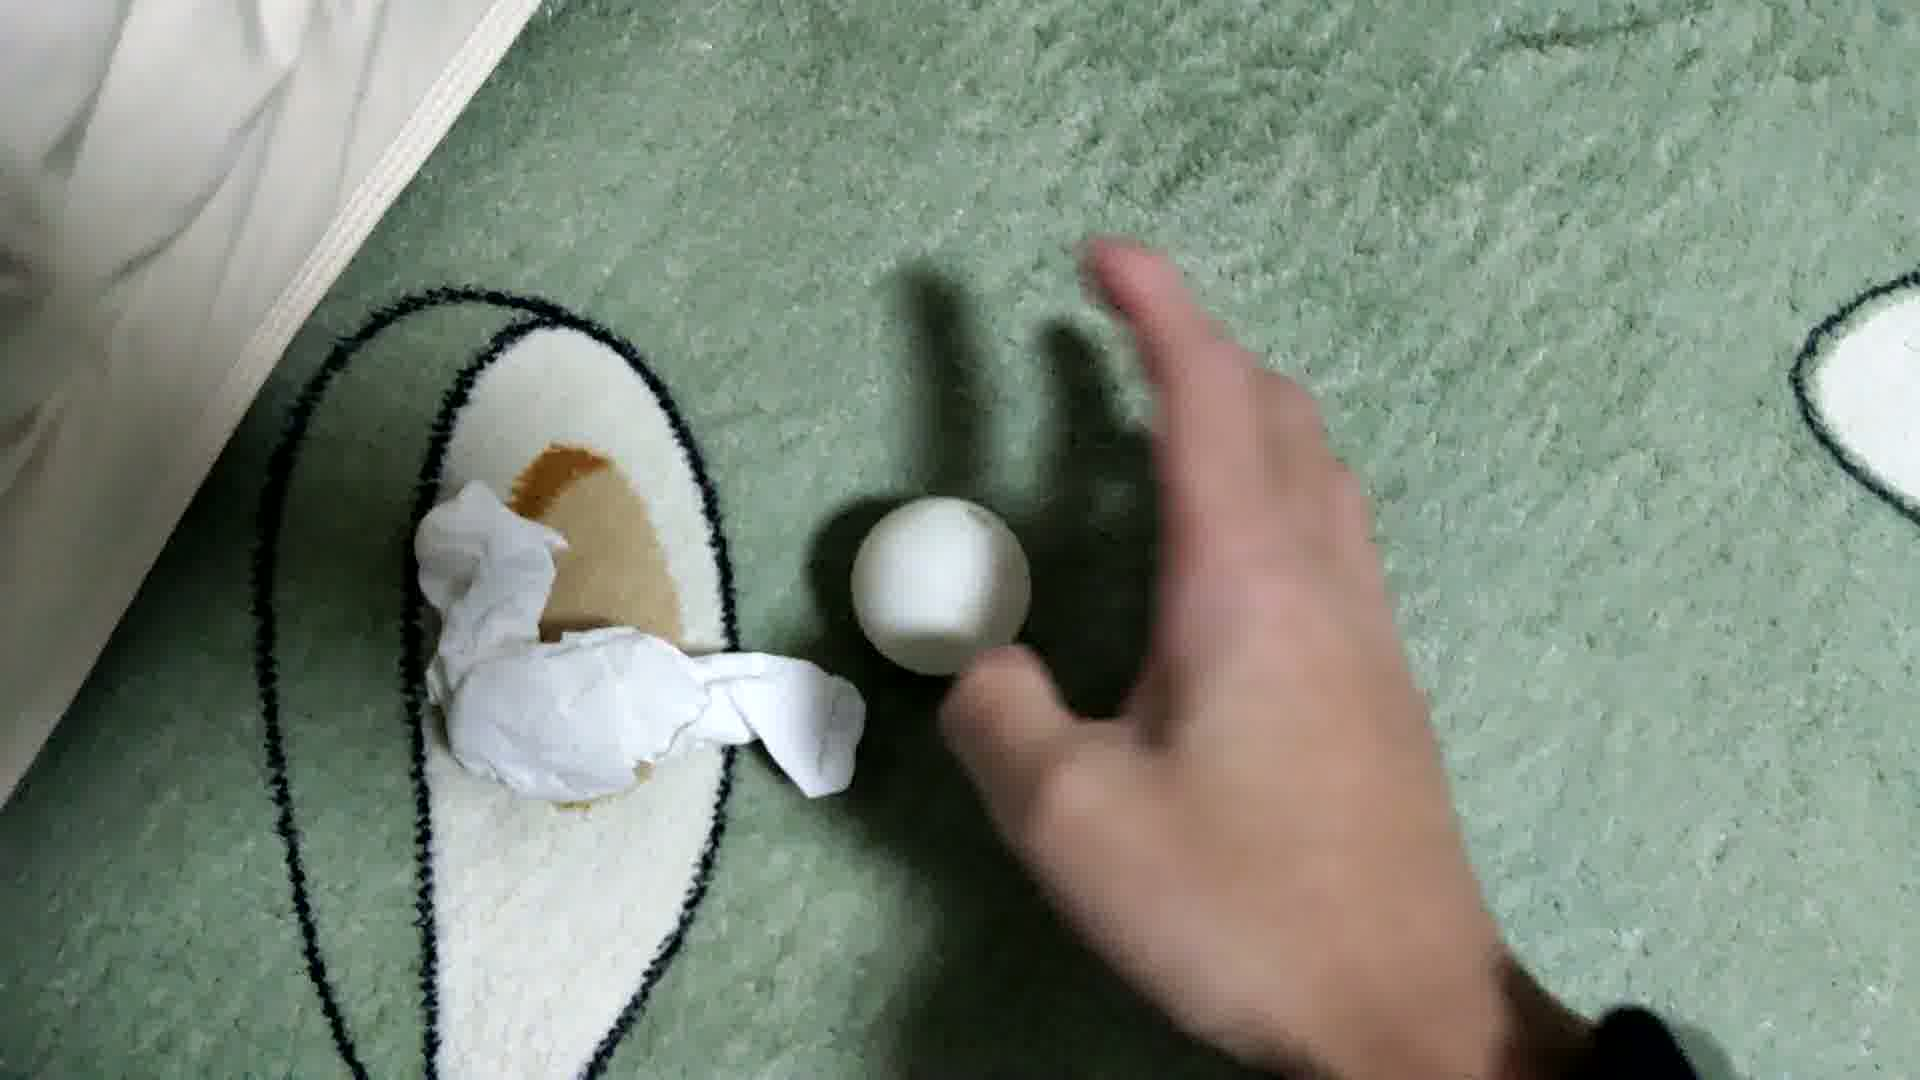Ball: (849, 495, 1033, 679)
